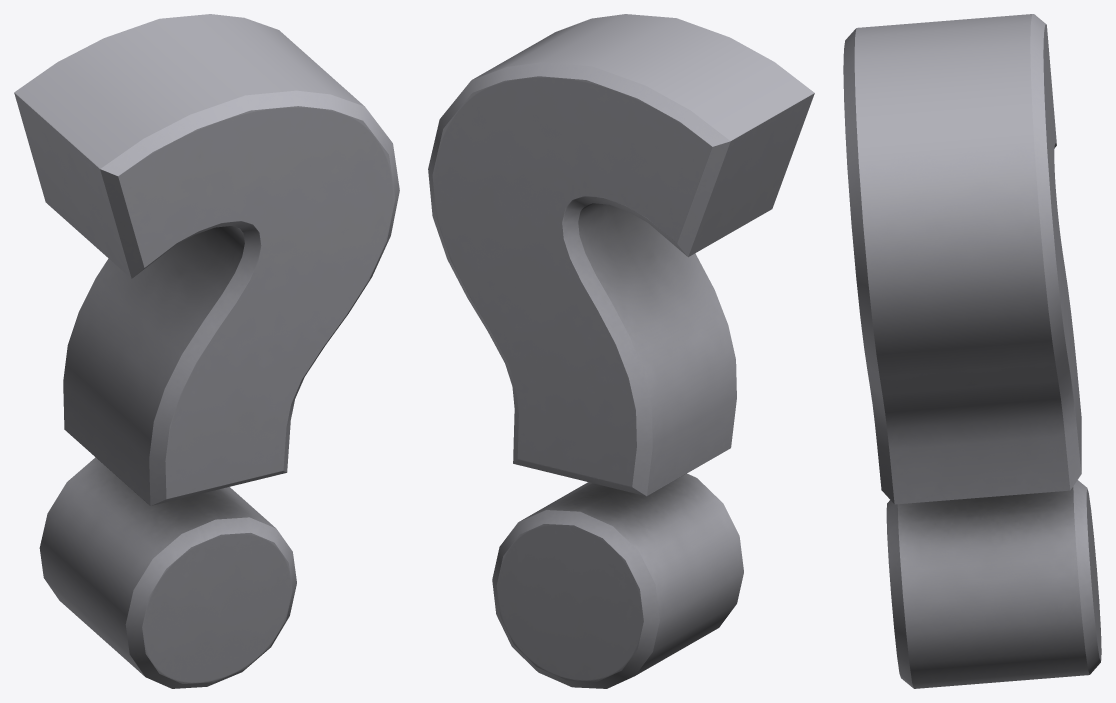
Rendered from question.FBX.
3 views of the same model, side by side, from view 1: azimuth 30°, elevation 25°; view 2: azimuth 150°, elevation 25°; view 3: azimuth 270°, elevation 25° (orthographic). The views are drawn at different scales.
Parts seen in each view (by area): view 1: question; view 2: question; view 3: question.
Part boxes in pixels (bbox=[...]): question: bbox=[14, 14, 399, 688]; question: bbox=[428, 14, 814, 688]; question: bbox=[843, 14, 1101, 688].
Bounding box in the file's own units: 59.05 × 116 × 42.45.
